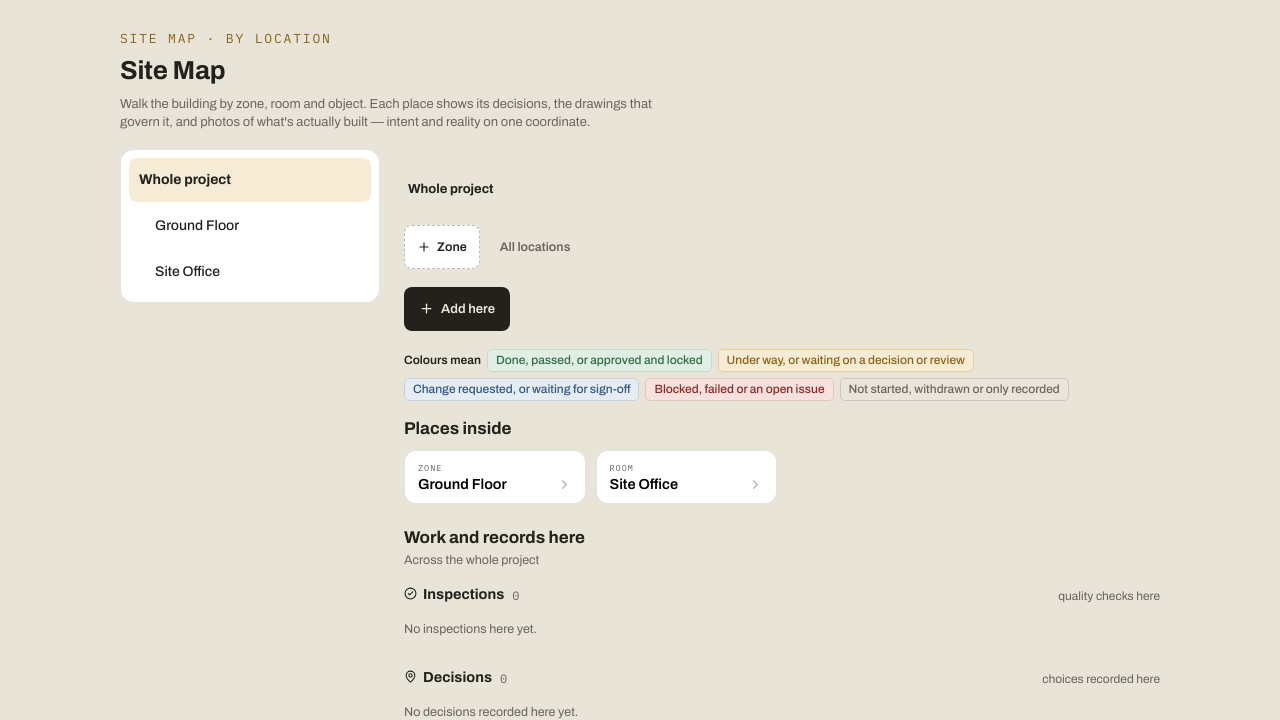
the Site Map can create at the place it is showing › a pmc gets Add here, and the menu offers the three they may author
Click the button with test id "place-add": (457, 309) [404,287,510,331]
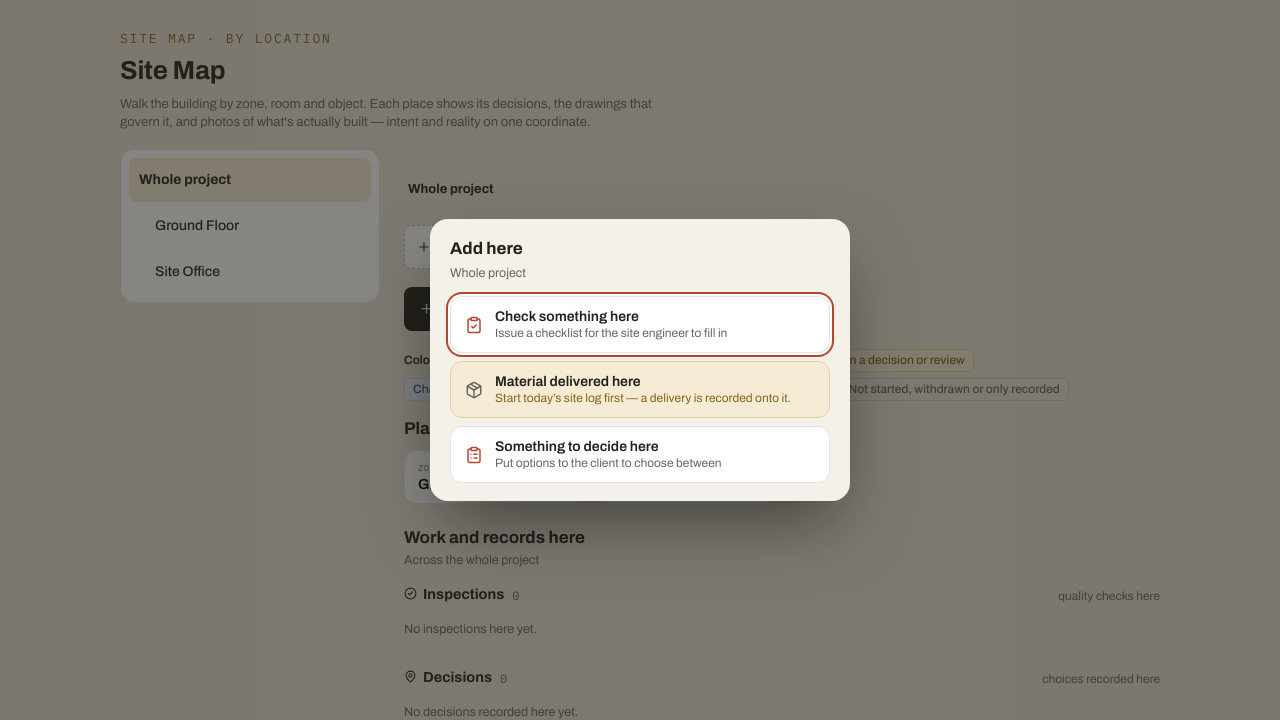
Now the button with test id "create-inspection" is shown, box [450,296,830,353]
Now the button with test id "create-material" is shown, box [450,361,830,418]
Now the button with test id "create-decision" is shown, box [450,426,830,483]
